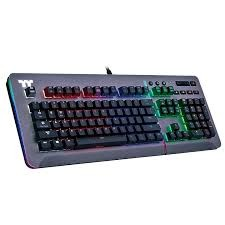mouse: (3, 72, 224, 167)
